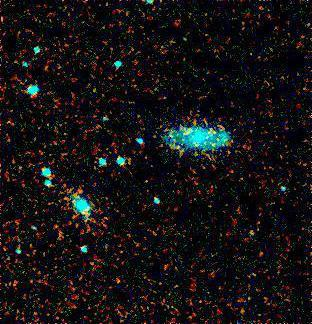star: (170, 119, 200, 149)
